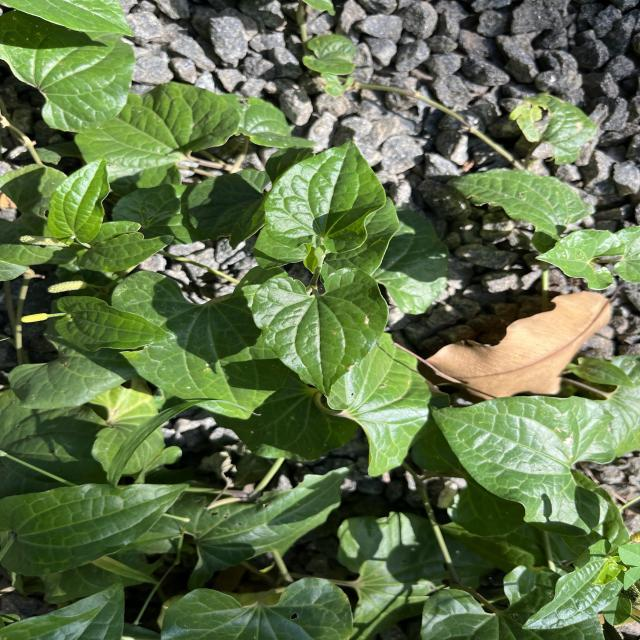Piper longum: (426, 393, 626, 539), (250, 263, 390, 401), (262, 136, 389, 256), (518, 536, 628, 632)
